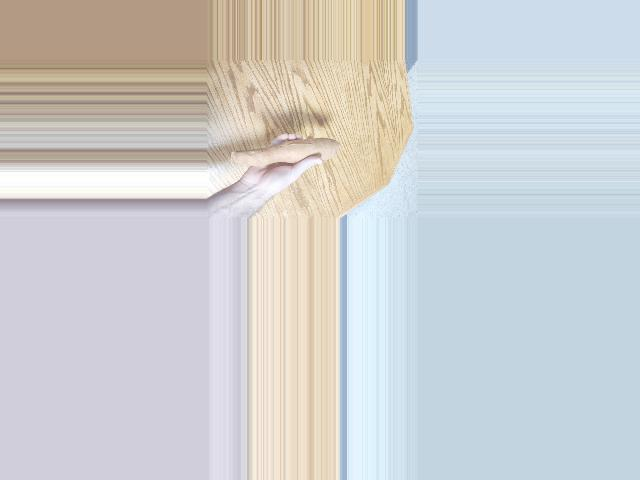sweet_potato: (225, 134, 342, 168)
